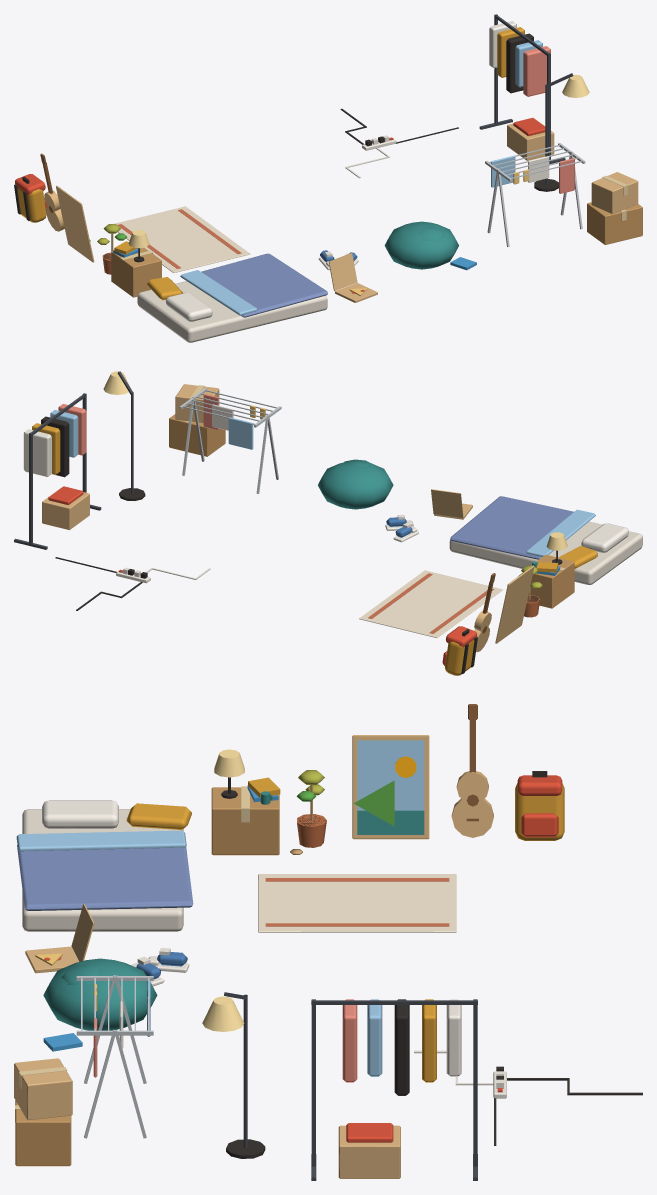
The model's file is einrichtung_zimmer.glb.
The picture shows the model from 3 angles, top to bottom: view 1: azimuth 30°, elevation 25°; view 2: azimuth 150°, elevation 25°; view 3: azimuth 270°, elevation 25°; orthographic projection. The views are drawn at different scales.
Visible parts, largest first — view 1: einrichtung_zimmer; view 2: einrichtung_zimmer; view 3: einrichtung_zimmer.
Boxes of the visible parts, x1,y1,x2,y2 form: einrichtung_zimmer: (14, 14, 642, 342); einrichtung_zimmer: (14, 371, 642, 675); einrichtung_zimmer: (14, 704, 642, 1180).
Size of the model in its own units: 6.71 by 1.55 by 5.07.
